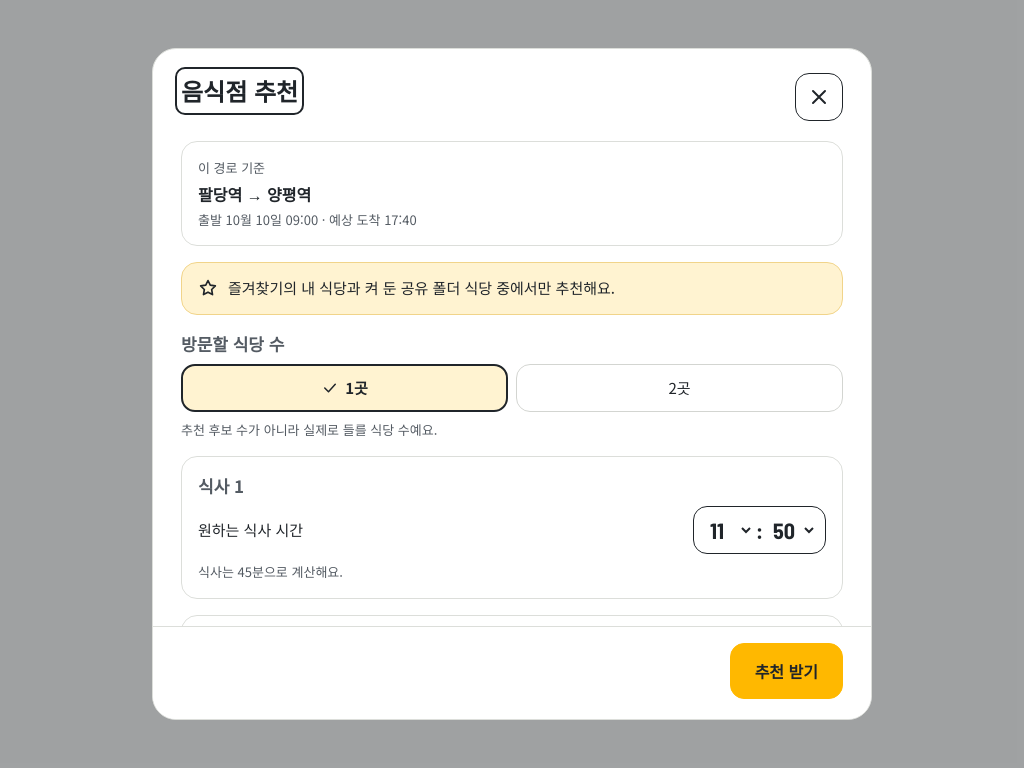
Test: restaurant recommendation with shared folders (SRC02, SRC02b, SRC03) › SRC04: all candidates avoided has its own title, the avoided-places button and no 조건 바꾸기
The width and height of the screenshot is (1024, 768).
What coordinates should you click on to do the following:
click the button "추천 받기"
I would click on:
 (786, 671)
Its box is [730, 643, 843, 699].
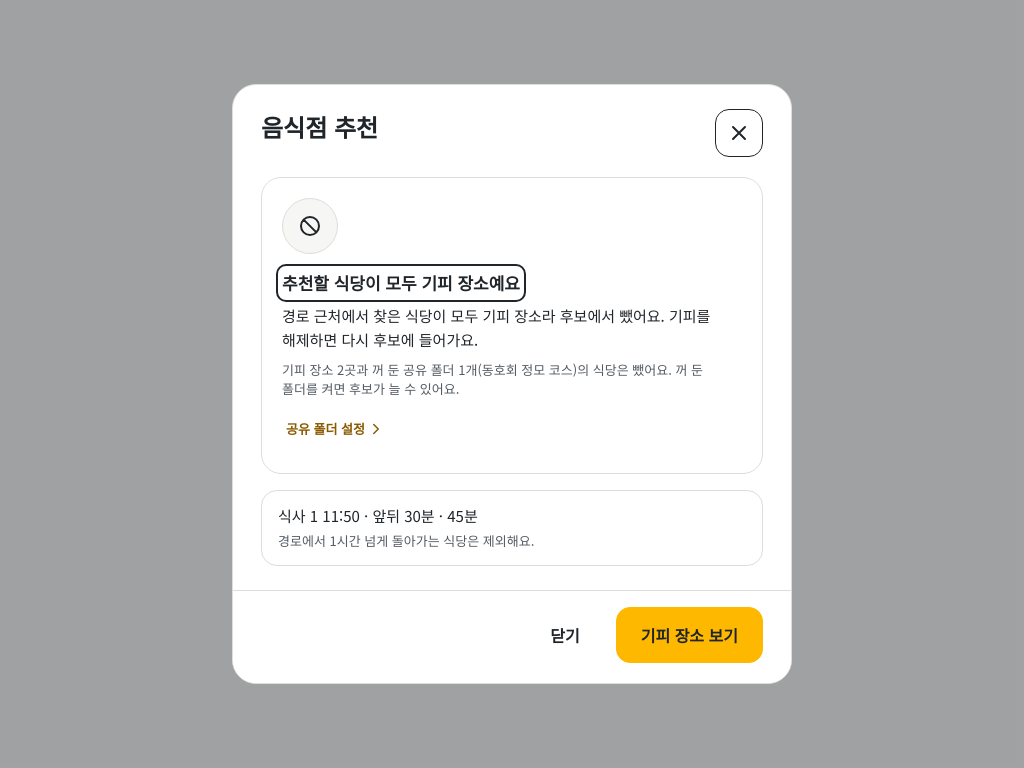
Result: the text "추천할 식당이 모두 기피 장소예요" is shown at [282, 270, 520, 296]
Result: the text "경로 근처에서 찾은 식당이 모두 기피 장소라 후보에서 뺐어요. 기피를 해제하면 다시 후보에 들어가요." is shown at [282, 304, 742, 352]
Result: the text "꺼 둔 폴더를 켜면 후보가 늘 수 있어요." is shown at [282, 360, 703, 398]
